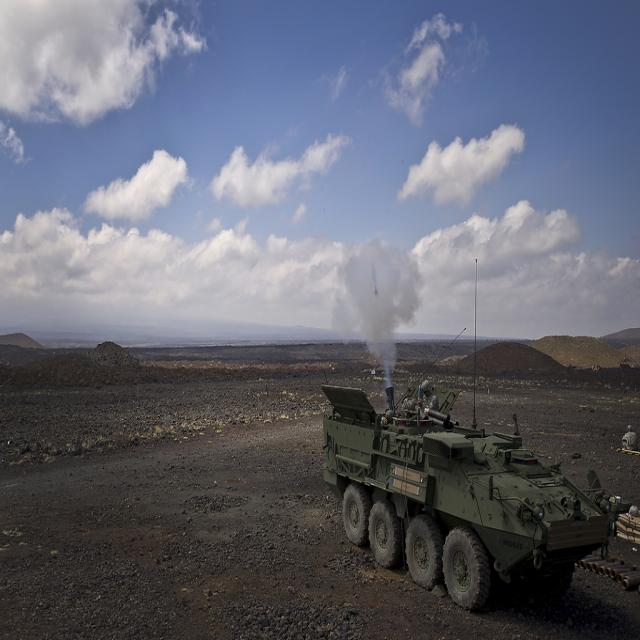tank: (321, 259, 629, 612)
